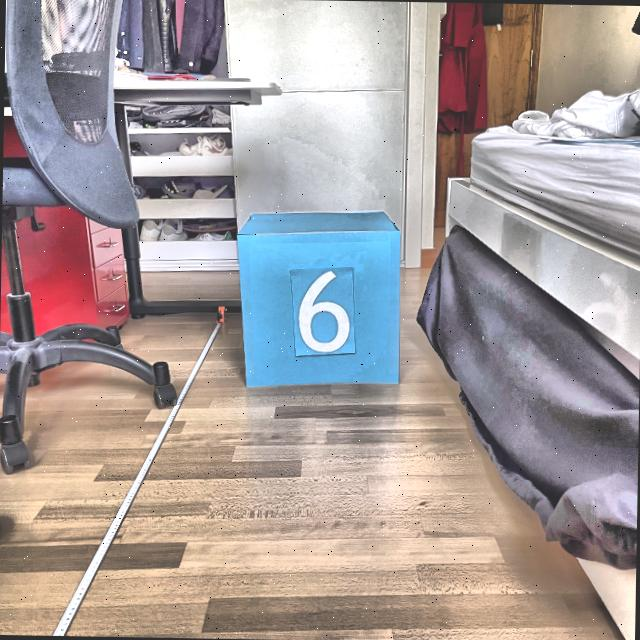blue box: (233, 206, 409, 392)
six: (294, 266, 352, 354)
